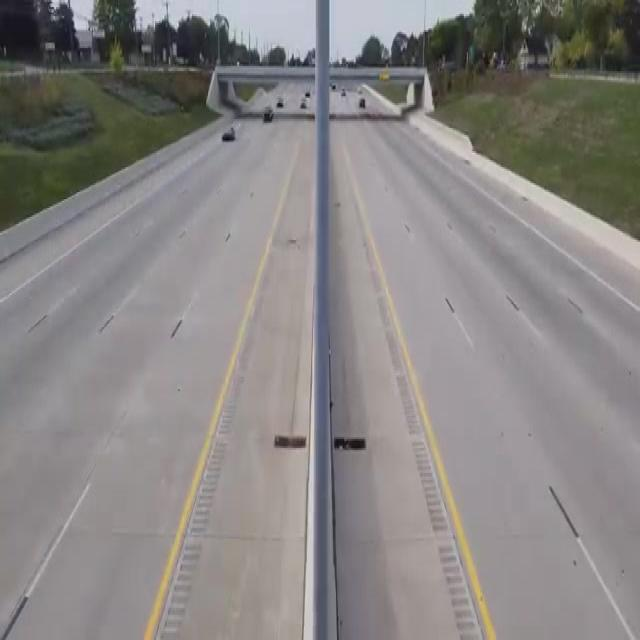car: (215, 115, 246, 149), (259, 97, 276, 127), (276, 92, 288, 120)
